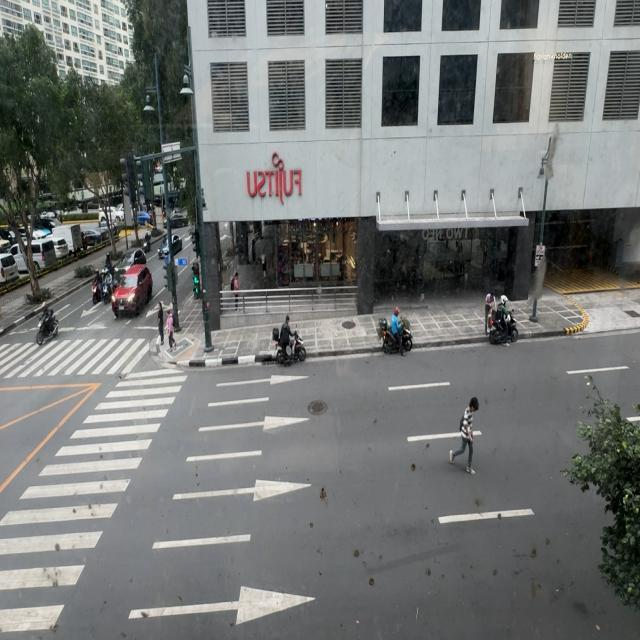jaywalking: (448, 392, 480, 473)
waiting: (166, 308, 176, 349), (157, 302, 165, 346)
